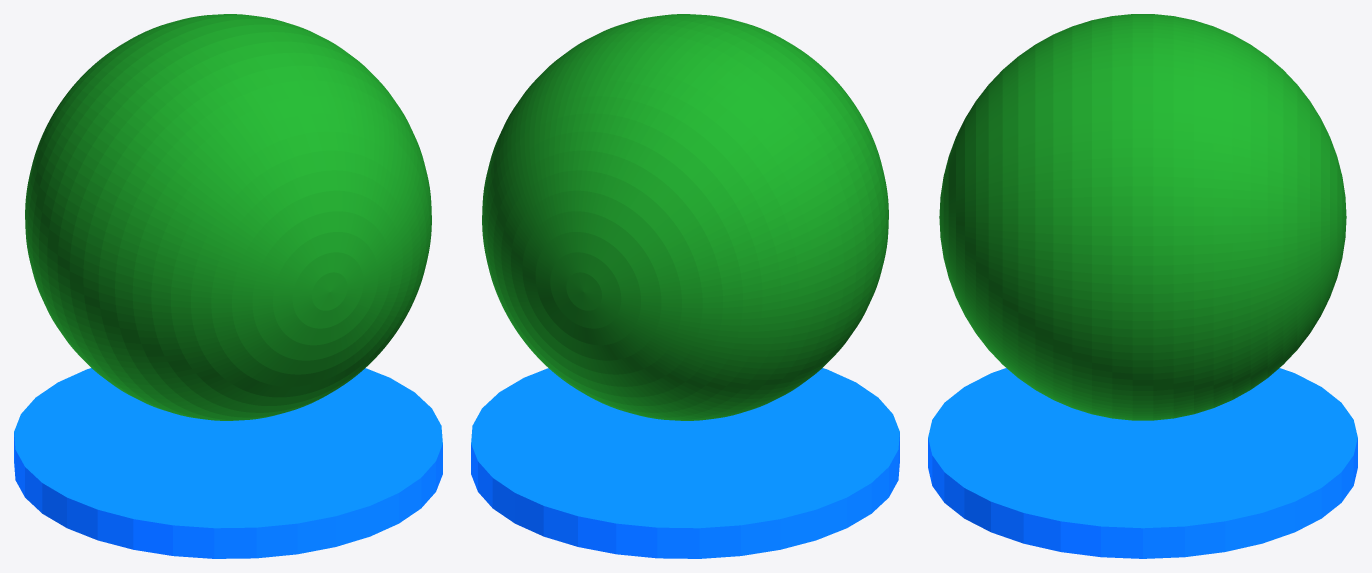
The model's file is sports_tennis_ball.dae.
3 views of the same model, side by side, from view 1: azimuth 30°, elevation 25°; view 2: azimuth 150°, elevation 25°; view 3: azimuth 270°, elevation 25° (orthographic).
Parts seen in each view (by area): view 1: 04_04_Popular_Sports_Tennis_Ball_part_01, 04_04_Popular_Sports_Tennis_Ball_ROOT_base; view 2: 04_04_Popular_Sports_Tennis_Ball_part_01, 04_04_Popular_Sports_Tennis_Ball_ROOT_base; view 3: 04_04_Popular_Sports_Tennis_Ball_part_01, 04_04_Popular_Sports_Tennis_Ball_ROOT_base.
Boxes of the visible parts, x1,y1,x2,y2 form: 04_04_Popular_Sports_Tennis_Ball_part_01: (25,14,431,420); 04_04_Popular_Sports_Tennis_Ball_ROOT_base: (14,368,442,558); 04_04_Popular_Sports_Tennis_Ball_part_01: (482,14,888,420); 04_04_Popular_Sports_Tennis_Ball_ROOT_base: (471,368,899,558); 04_04_Popular_Sports_Tennis_Ball_part_01: (939,14,1346,420); 04_04_Popular_Sports_Tennis_Ball_ROOT_base: (928,368,1357,558).
Bounding box in the file's own units: 0.76 × 0.8491 × 0.76.
